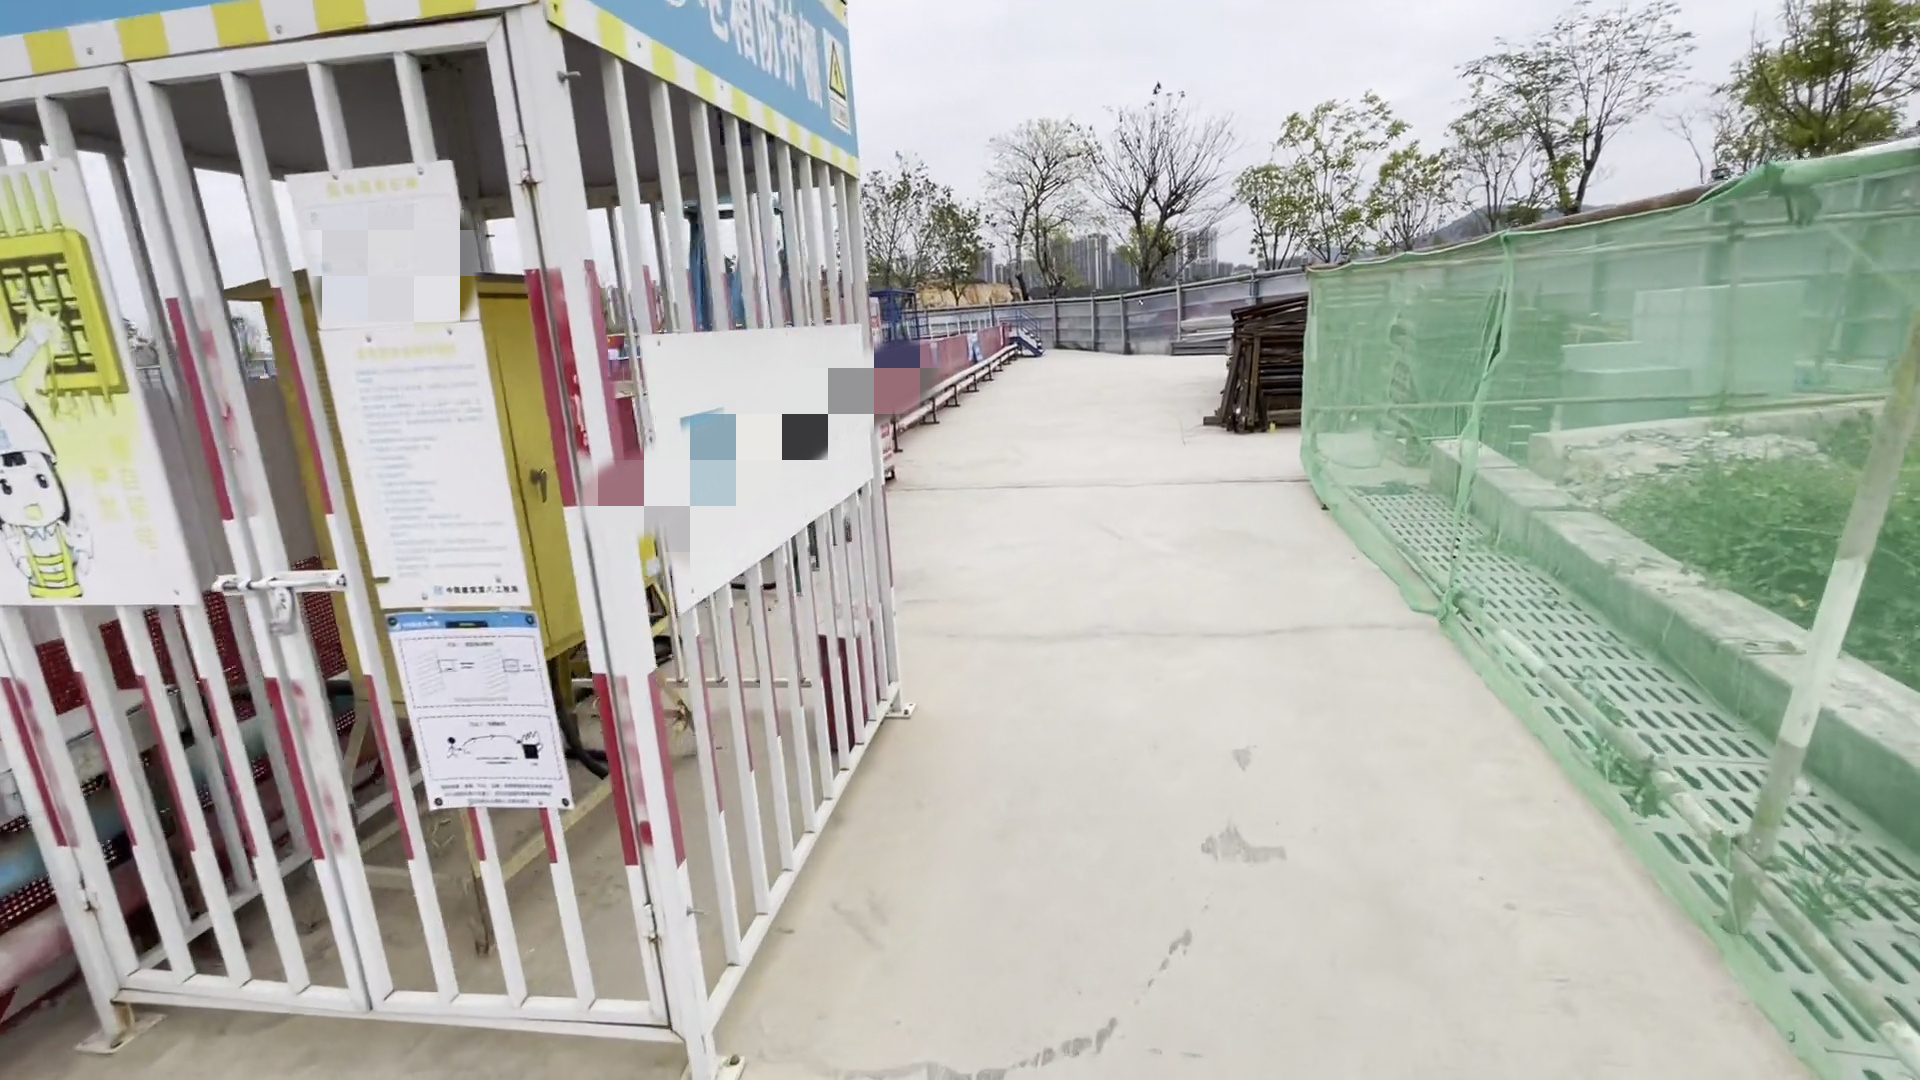fence: (865, 319, 1022, 439)
